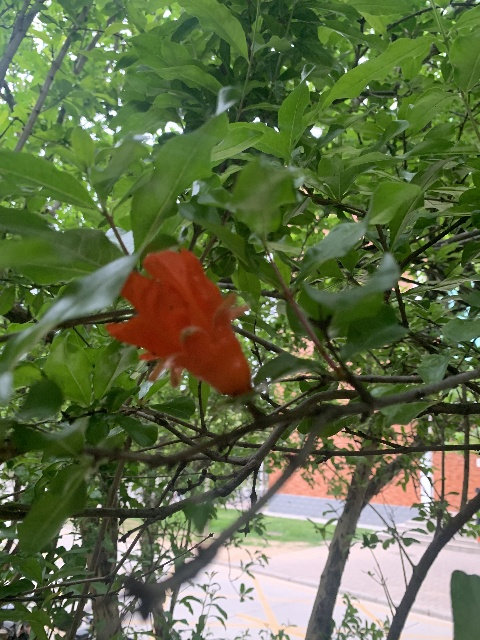flower: (106, 247, 252, 396)
